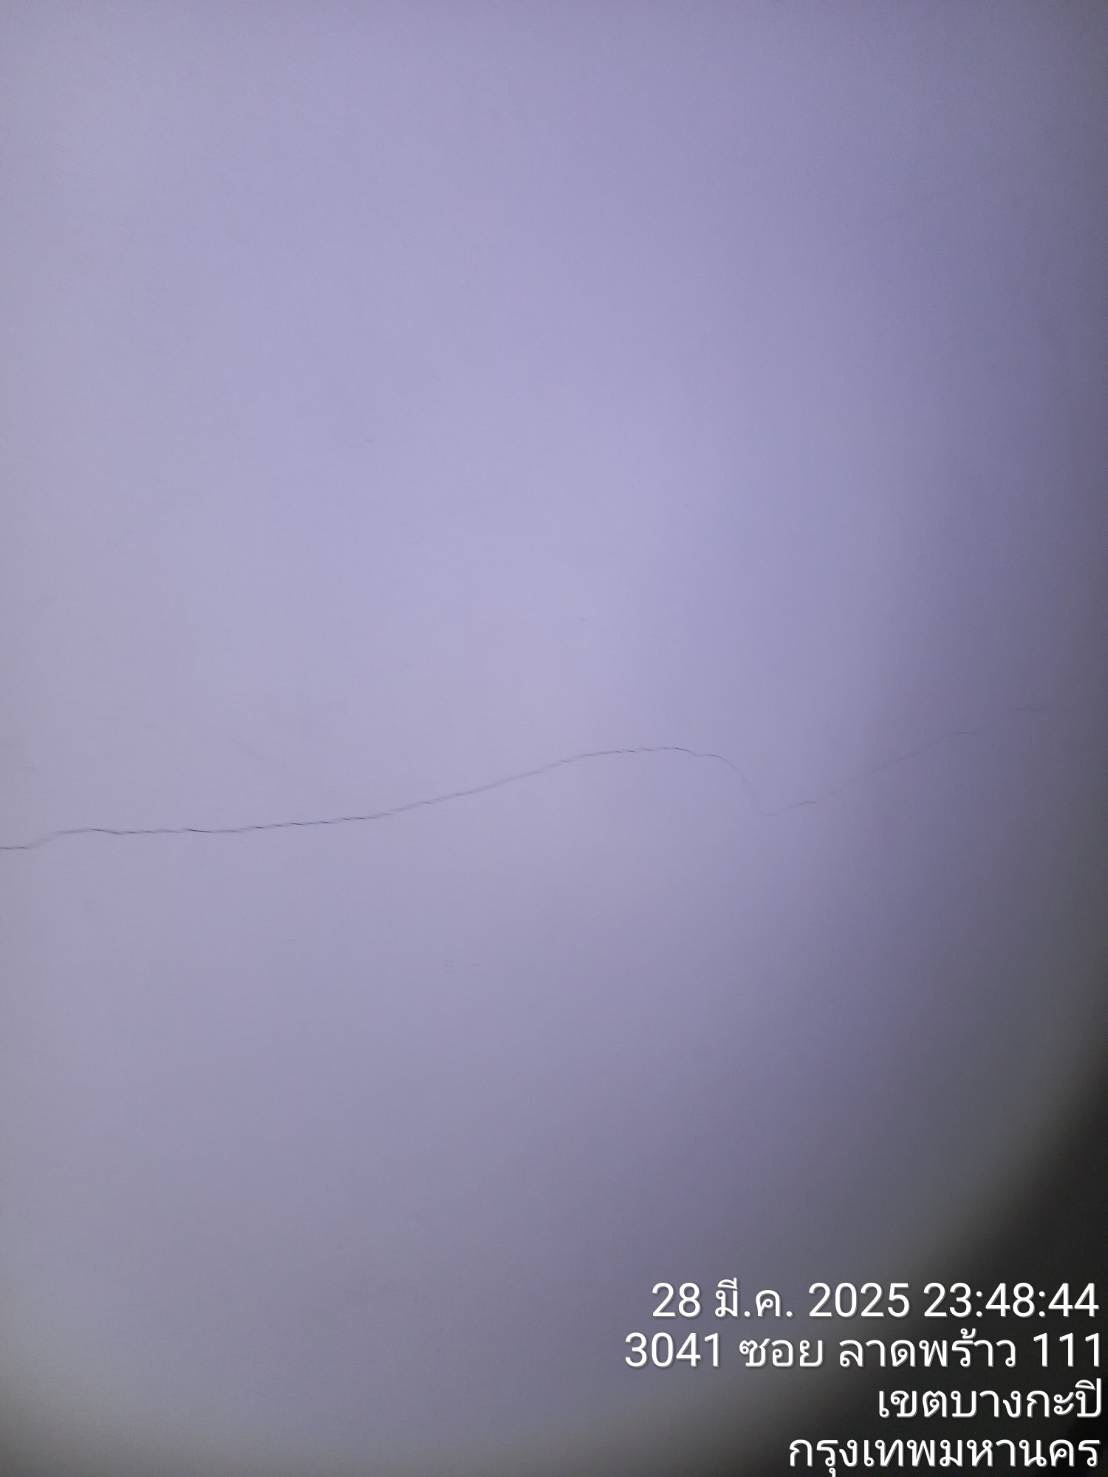Low: (2, 710, 1108, 967)
